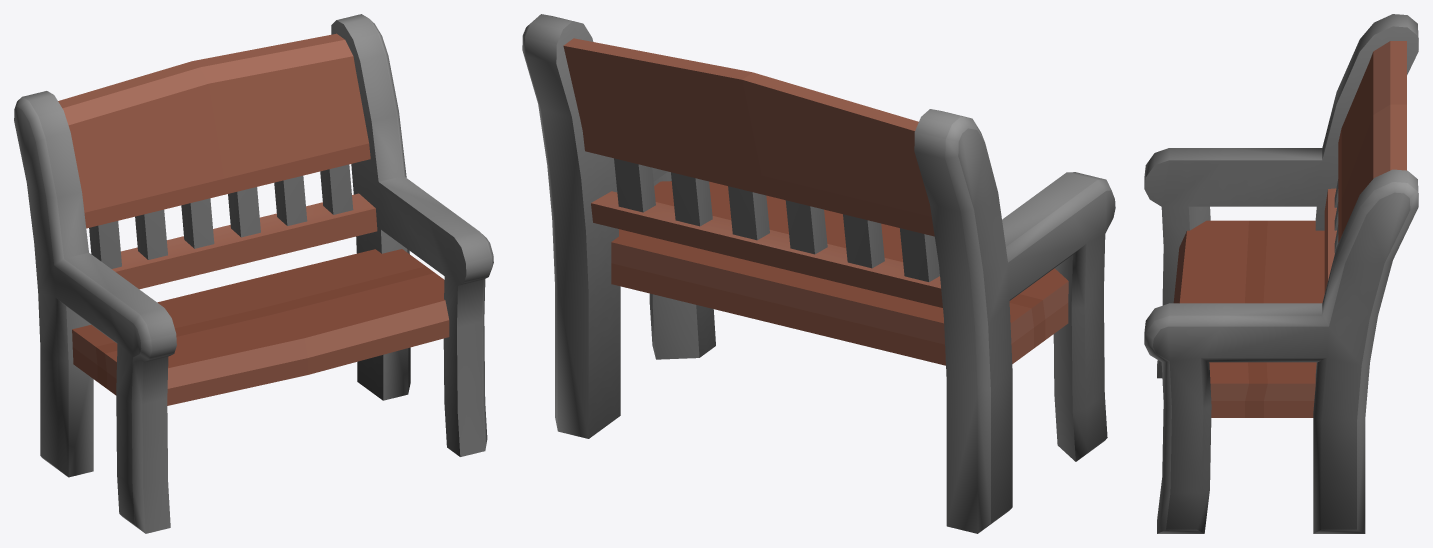
File: Bench.fbx
3 renders of one model, left to right at view 1: azimuth 30°, elevation 25°; view 2: azimuth 150°, elevation 25°; view 3: azimuth 270°, elevation 25°, orthographic. The views are drawn at different scales.
Parts seen in each view (by area): view 1: Bench; view 2: Bench; view 3: Bench.
Boxes of the visible parts, x1,y1,x2,y2 form: Bench: [14, 14, 493, 533]; Bench: [522, 14, 1115, 533]; Bench: [1144, 14, 1418, 533].
Size of the model in its own units: 141 by 133 by 93.58.
